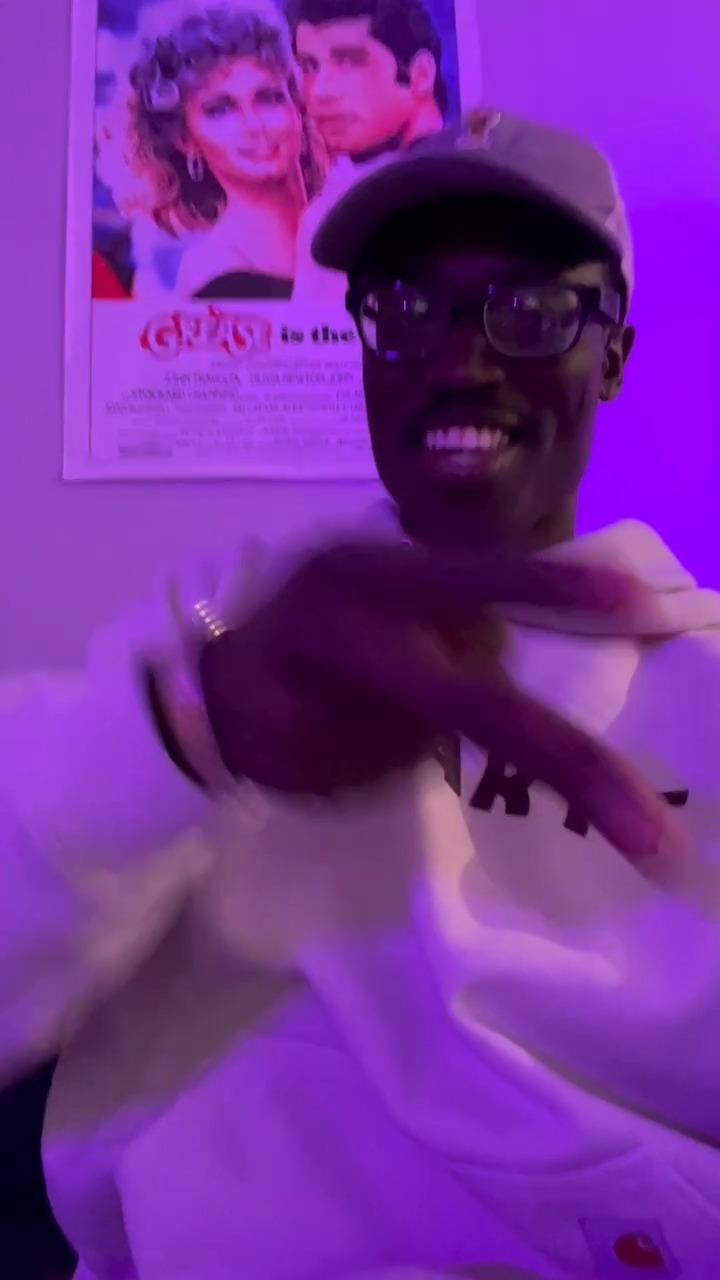Scissors: (180, 522, 685, 876)
